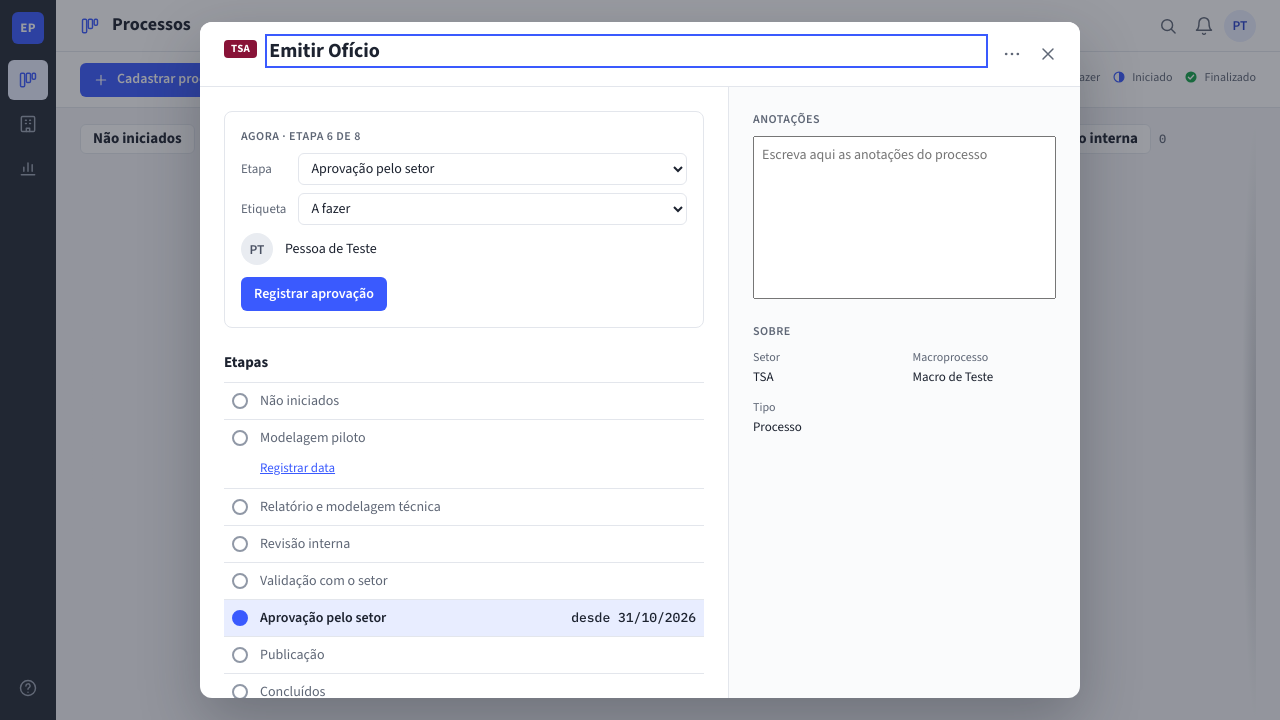
it: a janela mostra a versão aprovada; registrar sem número, link e data é aceito e não move o processo
Click the button "Registrar aprovação". click: (314, 294)
box: [241, 277, 387, 311]
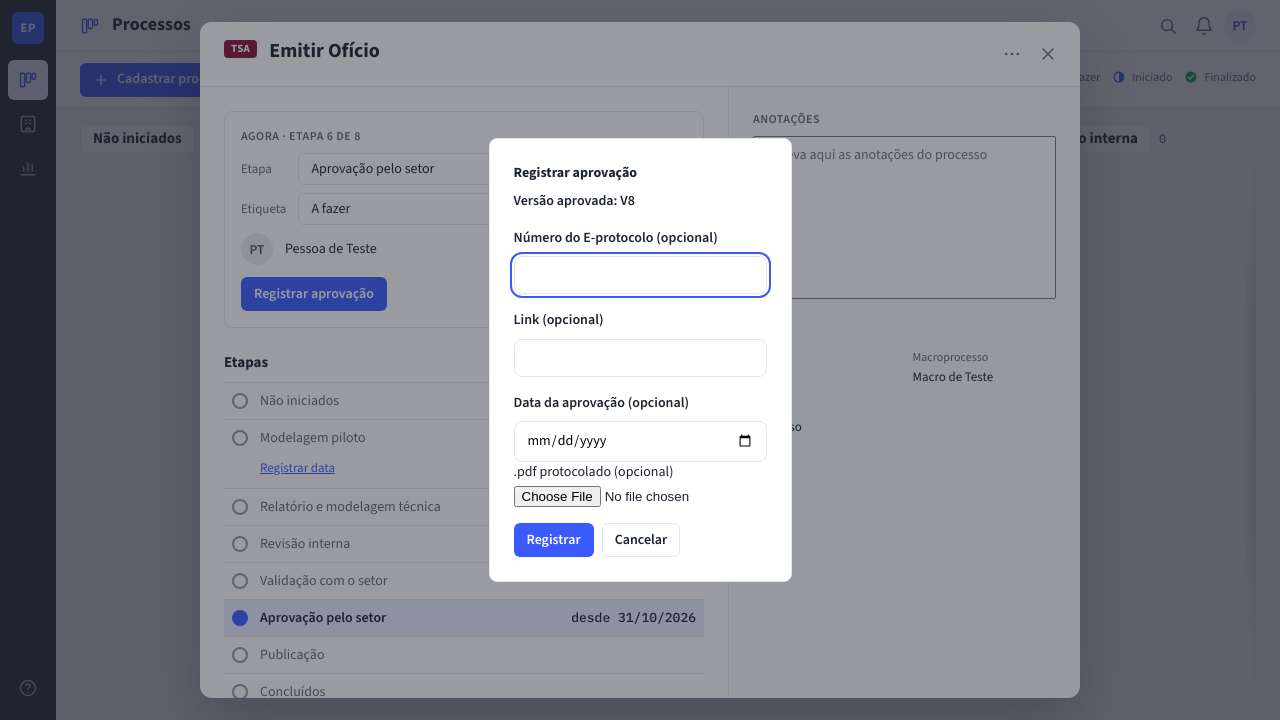
Expected: the text "Versão aprovada: V8" is shown, [514, 192, 635, 212]
Click the button "Registrar". click: (554, 540)
box: [514, 523, 594, 557]
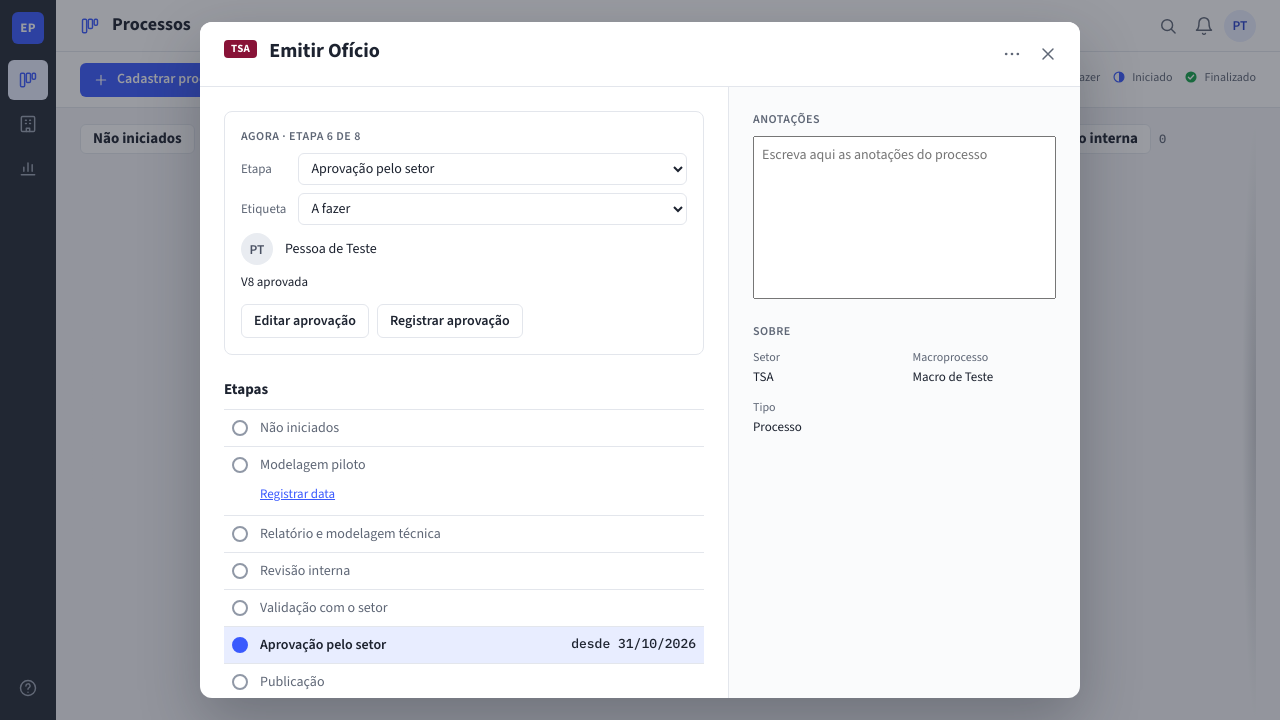
Expected: the text "V8 aprovada" is shown, [241, 273, 308, 291]
Expected: the button "Editar aprovação" is shown, [241, 304, 369, 338]
